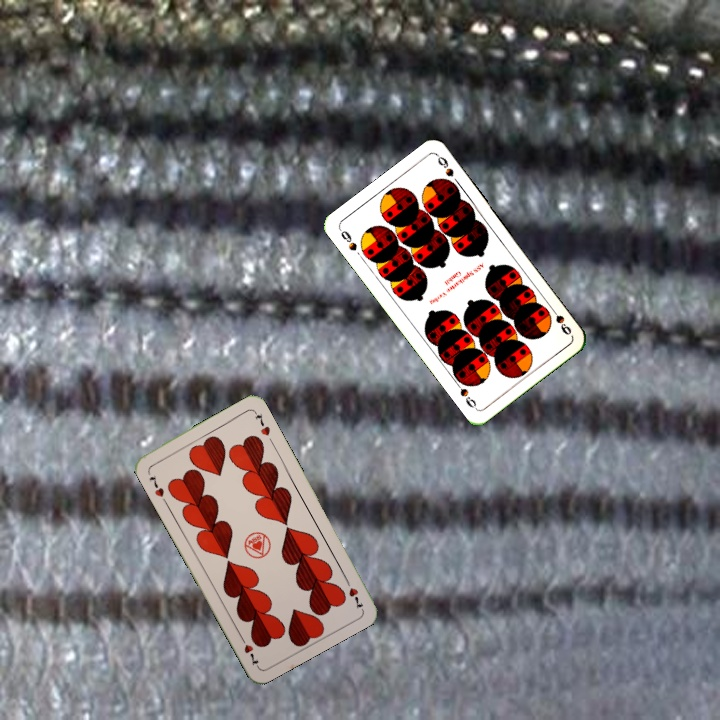H7: (341, 574, 366, 611), (145, 471, 167, 500)
S9: (545, 302, 574, 338), (335, 225, 360, 253)
